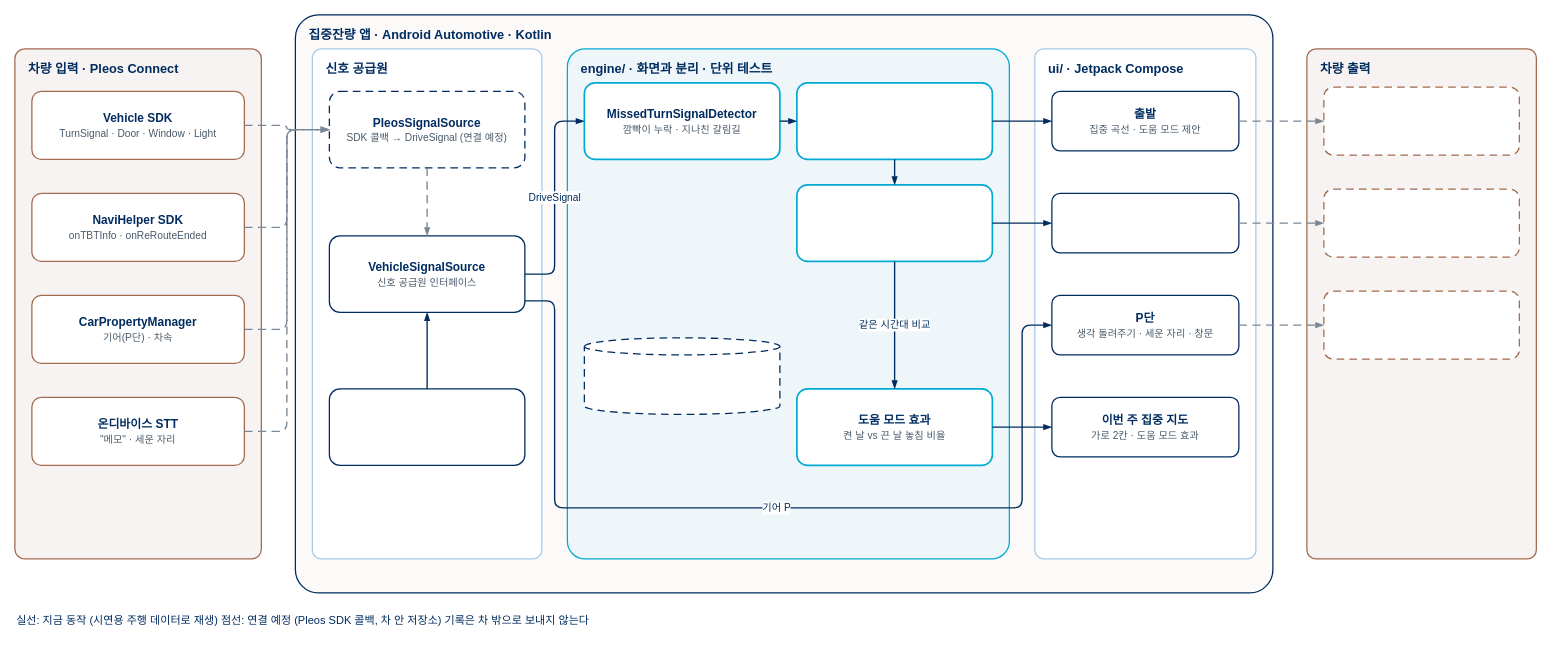
Image size: 1552x645. Some labels were removed from this diagram. Here are the shapes that lost their labels. From the top down, the centre of each, then its label:
At point (894, 121): "FocusCurve 하루 집중 곡선 · 주간 지도".
At point (1421, 120): "NaviHelper 편한 길 경로 옵션".
At point (894, 223): "도움 모드 판단 3시간 놓침이 평소 1.5배 이상".
At point (1145, 222): "주행 중 회전 100m 앞 한 번 더 · 생각 주차장".
At point (1421, 222): "TTS 한 번 더 안내 · 생각 읽어 주기".
At point (1421, 324): "휴대폰 전송 세운 자리, 본인이 보낼 때만".
At point (681, 376): "차 안 저장소 복용·운전 기록, 외부 전송 없음 (예정)".
At point (426, 427): "DemoSignalSource 시연용 3주치 퇴근길 주행".
